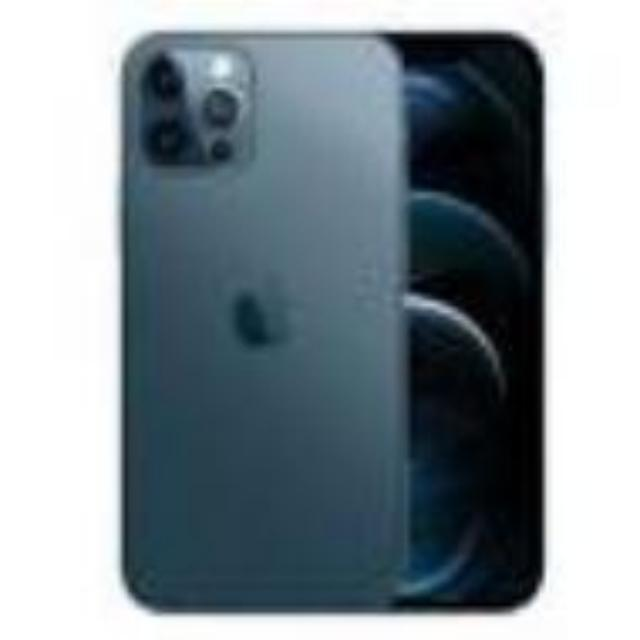phone: (110, 16, 418, 622), (266, 20, 567, 617)
